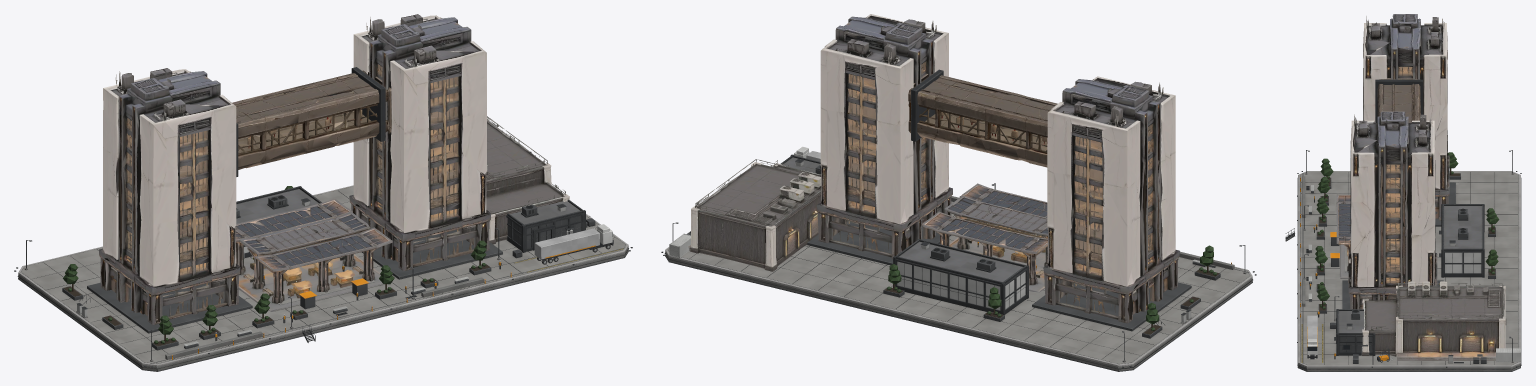
File: trade_center.glb
The picture shows the model from 3 angles, left to right: view 1: azimuth 30°, elevation 25°; view 2: azimuth 150°, elevation 25°; view 3: azimuth 270°, elevation 25°; orthographic projection. The views are drawn at different scales.
Parts seen in each view (by area): view 1: parts_colony-officeTower, hull, parts_colony-marketArcade, parts_colony-skyBridge, parts_colony-loadingHall, parts_yard-truck; view 2: parts_colony-officeTower, hull, parts_colony-loadingHall, parts_colony-skyBridge, parts_colony-marketArcade; view 3: hull, parts_colony-officeTower, parts_colony-loadingHall, parts_colony-skyBridge, parts_colony-marketArcade, parts_yard-truck, parts_container.
Part boxes in pixels (box(x1,y1,x2,y2)): parts_colony-officeTower: box(99, 14, 490, 324); hull: box(14, 67, 632, 371); parts_colony-marketArcade: box(235, 198, 392, 311); parts_colony-skyBridge: box(232, 70, 391, 169); parts_colony-loadingHall: box(486, 116, 569, 244); parts_yard-truck: box(534, 224, 613, 264); parts_colony-officeTower: box(816, 14, 1179, 323); hull: box(661, 69, 1256, 371); parts_colony-loadingHall: box(688, 159, 821, 271); parts_colony-skyBridge: box(908, 73, 1057, 167); parts_colony-marketArcade: box(922, 183, 1047, 292); hull: box(1285, 79, 1521, 371); parts_colony-officeTower: box(1348, 14, 1449, 309); parts_colony-loadingHall: box(1362, 281, 1506, 360); parts_colony-skyBridge: box(1377, 78, 1420, 122); parts_colony-marketArcade: box(1336, 194, 1350, 278); parts_yard-truck: box(1307, 315, 1317, 359); parts_container: box(1496, 348, 1520, 362).
Size of the model in its own units: 112 by 50.01 by 57.29.
10 materials, 10 textured.
